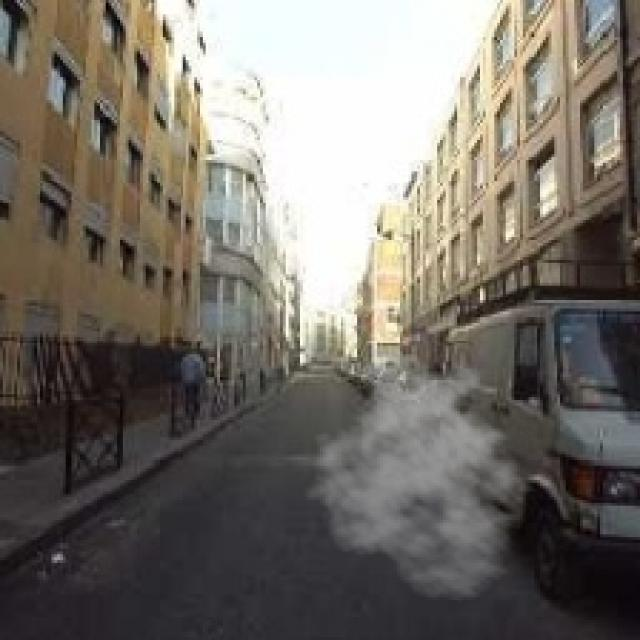smoke: (303, 346, 546, 603)
